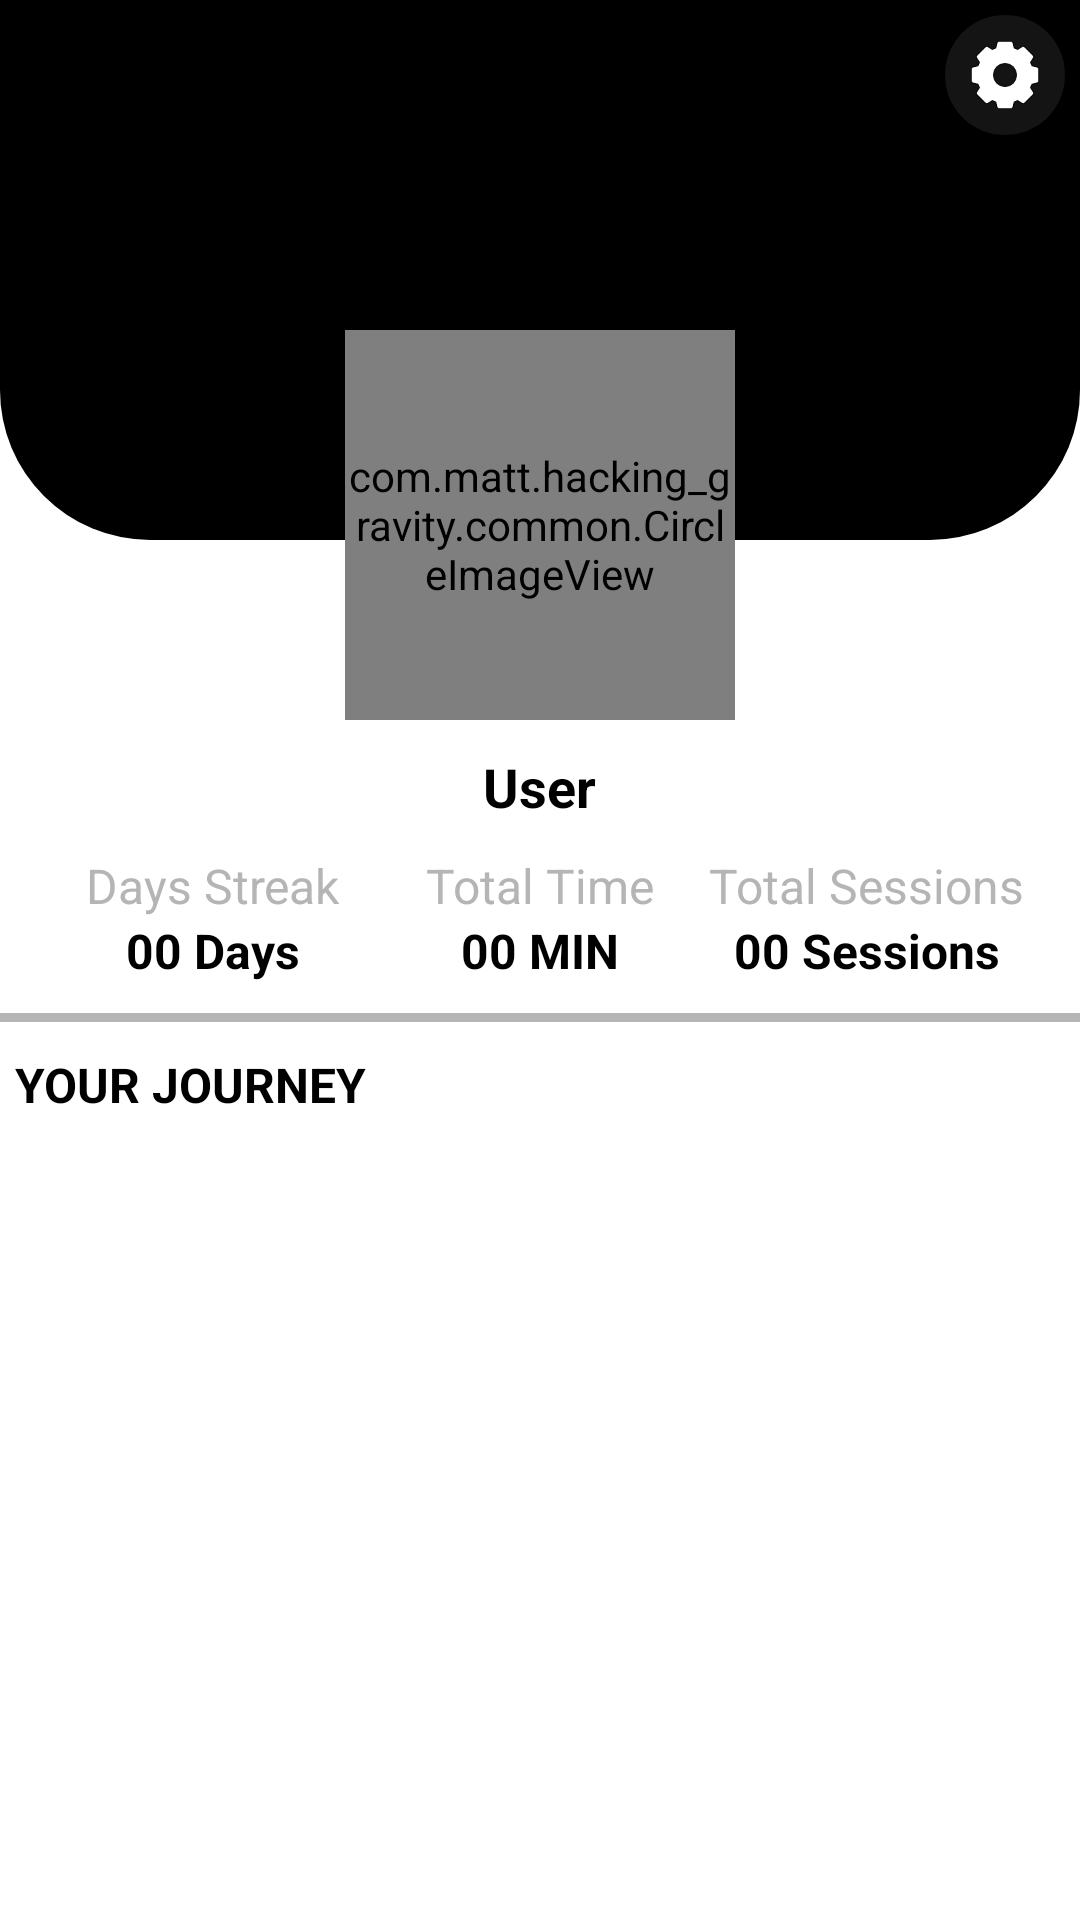

Icons on this 1080*1920 Android screen, each with its box as (x1, y1, x2, y2):
setting: (971, 41, 1039, 109)
